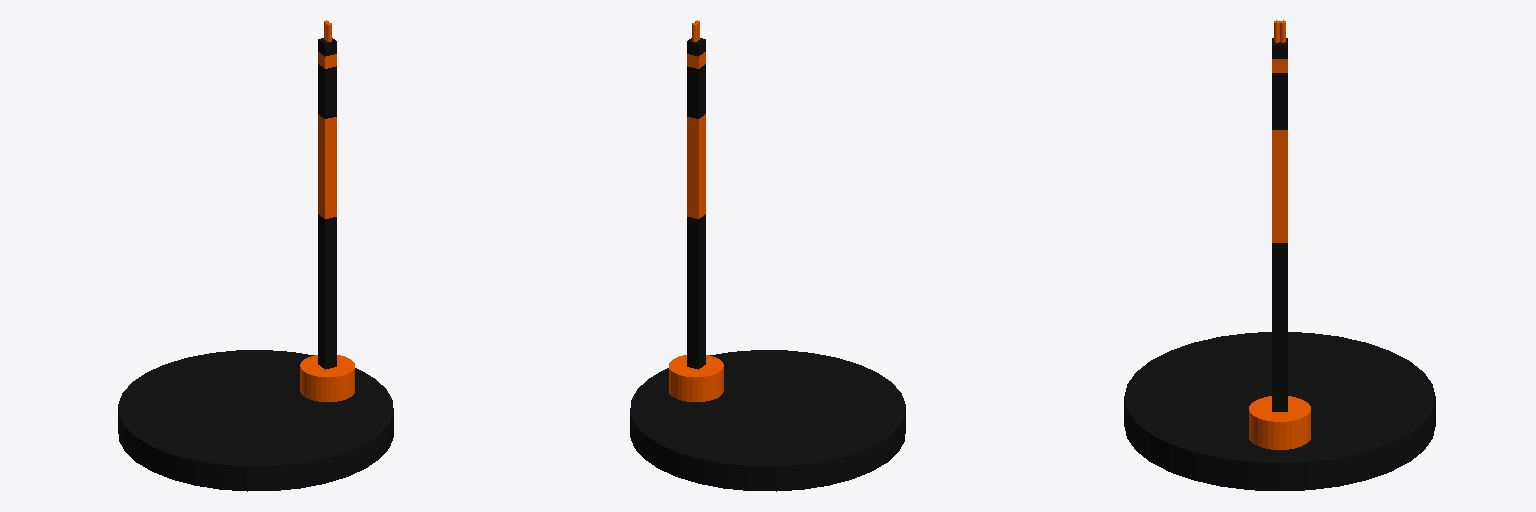
URDF robot description (testarm):
<?xml version="1.0" encoding="utf-8"?>
<!-- =================================================================================== -->
<!-- |    This document was autogenerated by xacro from testarm.xacro                  | -->
<!-- |    EDITING THIS FILE BY HAND IS NOT RECOMMENDED                                 | -->
<!-- =================================================================================== -->
<robot name="testarm" xmlns:xacro="http://www.ros.org/wiki/xacro">
  <material name="black">
    <color rgba="0.1 0.1 0.1 1.0"/>
  </material>
  <material name="orange">
    <color rgba="1.0 0.4 0.0 1.0"/>
  </material>
  <link name="base_link">
    <collision>
      <origin rpy="0 0 0" xyz="0.0 0.0 0.0"/>
      <geometry>
        <cylinder length="0.1" radius="0.5"/>
      </geometry>
    </collision>
    <visual>
      <origin rpy="0 0 0" xyz="0.0 0.0 0.0"/>
      <geometry>
        <cylinder length="0.1" radius="0.5"/>
      </geometry>
      <material name="black"/>
    </visual>
    <inertial>
      <origin rpy="0 0 0" xyz="0 0 0"/>
      <mass value="100"/>
      <inertia ixx="6.33333333333" ixy="0" ixz="0" iyy="6.33333333333" iyz="0" izz="25.0"/>
    </inertial>
  </link>
  <joint name="joint_base" type="revolute">
    <parent link="base_link"/>
    <child link="link0"/>
    <origin rpy="0 0 0" xyz="0.3 0 0.05"/>
    <axis xyz="0 0 1"/>
    <limit effort="300" lower="-2.78539816339" upper="2.78539816339" velocity="1.571"/>
  </joint>
  <link name="link0">
    <collision>
      <origin rpy="0 0 0" xyz="0 0 0.05"/>
      <geometry>
        <cylinder length="0.1" radius="0.1"/>
      </geometry>
    </collision>
    <visual>
      <origin rpy="0 0 0" xyz="0 0 0.05"/>
      <geometry>
        <cylinder length="0.1" radius="0.1"/>
      </geometry>
      <material name="orange"/>
    </visual>
    <inertial>
      <origin rpy="0 0 0" xyz="0 0 0.05"/>
      <mass value="1"/>
      <inertia ixx="0.00333333333333" ixy="0" ixz="0" iyy="0.00333333333333" iyz="0" izz="0.05"/>
    </inertial>
  </link>
  <joint name="joint0" type="revolute">
    <parent link="link0"/>
    <child link="link1"/>
    <origin rpy="0 0 0" xyz="0 0 0.1"/>
    <axis xyz="0 1 0"/>
    <limit effort="300" lower="-2.78539816339" upper="2.78539816339" velocity="1.571"/>
  </joint>
  <link name="link1">
    <collision>
      <origin rpy="0 0 0" xyz="0 0 0.3"/>
      <geometry>
        <box size="0.05 0.05 0.6"/>
      </geometry>
    </collision>
    <visual>
      <origin rpy="0 0 0" xyz="0 0 0.3"/>
      <geometry>
        <box size="0.05 0.05 0.6"/>
      </geometry>
      <material name="black"/>
    </visual>
    <inertial>
      <origin rpy="0 0 0" xyz="0 0 0.3"/>
      <mass value="1"/>
      <inertia ixx="0.03020832125" ixy="0.0" ixz="0.0" iyy="0.03020832125" iyz="0.0" izz="0.0004166665"/>
    </inertial>
  </link>
  <joint name="joint1" type="revolute">
    <parent link="link1"/>
    <child link="link2"/>
    <origin rpy="0 0 0" xyz="0 0 0.6"/>
    <axis xyz="0 1 0"/>
    <limit effort="300" lower="-2.78539816339" upper="2.78539816339" velocity="1.571"/>
  </joint>
  <link name="link2">
    <collision>
      <origin rpy="0 0 0" xyz="0 0 0.2"/>
      <geometry>
        <box size="0.05 0.05 0.4"/>
      </geometry>
    </collision>
    <visual>
      <origin rpy="0 0 0" xyz="0 0 0.2"/>
      <geometry>
        <box size="0.05 0.05 0.4"/>
      </geometry>
      <material name="orange"/>
    </visual>
    <inertial>
      <origin rpy="0 0 0" xyz="0 0 0.2"/>
      <mass value="1"/>
      <inertia ixx="0.01354166125" ixy="0.0" ixz="0.0" iyy="0.01354166125" iyz="0.0" izz="0.0004166665"/>
    </inertial>
  </link>
  <joint name="joint2" type="revolute">
    <parent link="link2"/>
    <child link="link3"/>
    <origin rpy="0 0 0" xyz="0 0 0.4"/>
    <axis xyz="0 0 1"/>
    <limit effort="300" lower="-2.78539816339" upper="2.78539816339" velocity="1.571"/>
  </joint>
  <link name="link3">
    <collision>
      <origin rpy="0 0 0" xyz="0 0 0.1"/>
      <geometry>
        <box size="0.05 0.05 0.2"/>
      </geometry>
    </collision>
    <visual>
      <origin rpy="0 0 0" xyz="0 0 0.1"/>
      <geometry>
        <box size="0.05 0.05 0.2"/>
      </geometry>
      <material name="black"/>
    </visual>
    <inertial>
      <origin rpy="0 0 0" xyz="0 0 0.1"/>
      <mass value="1"/>
      <inertia ixx="0.00354166525" ixy="0.0" ixz="0.0" iyy="0.00354166525" iyz="0.0" izz="0.0004166665"/>
    </inertial>
  </link>
  <joint name="joint3" type="revolute">
    <parent link="link3"/>
    <child link="link4"/>
    <origin rpy="0 0 0" xyz="0 0 0.2"/>
    <axis xyz="0 1 0"/>
    <limit effort="300" lower="-2.78539816339" upper="2.78539816339" velocity="1.571"/>
  </joint>
  <link name="link4">
    <collision>
      <origin rpy="0 0 0" xyz="0 0 0.025"/>
      <geometry>
        <box size="0.05 0.05 0.05"/>
      </geometry>
    </collision>
    <visual>
      <origin rpy="0 0 0" xyz="0 0 0.025"/>
      <geometry>
        <box size="0.05 0.05 0.05"/>
      </geometry>
      <material name="orange"/>
    </visual>
    <inertial>
      <origin rpy="0 0 0" xyz="0 0 0.025"/>
      <mass value="1"/>
      <inertia ixx="0.0004166665" ixy="0.0" ixz="0.0" iyy="0.0004166665" iyz="0.0" izz="0.0004166665"/>
    </inertial>
  </link>
  <joint name="joint4" type="revolute">
    <parent link="link4"/>
    <child link="link5"/>
    <origin rpy="0 0 0" xyz="0 0 0.05"/>
    <axis xyz="0 0 1"/>
    <limit effort="300" lower="-2.78539816339" upper="2.78539816339" velocity="1.571"/>
  </joint>
  <link name="link5">
    <collision>
      <origin rpy="0 0 0" xyz="0 0 0.025"/>
      <geometry>
        <box size="0.05 0.05 0.05"/>
      </geometry>
    </collision>
    <visual>
      <origin rpy="0 0 0" xyz="0 0 0.025"/>
      <geometry>
        <box size="0.05 0.05 0.05"/>
      </geometry>
      <material name="black"/>
    </visual>
    <inertial>
      <origin rpy="0 0 0" xyz="0 0 0.025"/>
      <mass value="1"/>
      <inertia ixx="0.0004166665" ixy="0.0" ixz="0.0" iyy="0.0004166665" iyz="0.0" izz="0.0004166665"/>
    </inertial>
  </link>
  <joint name="joint5" type="revolute">
    <parent link="link5"/>
    <child link="gripper_left"/>
    <origin rpy="0 0 0" xyz="0 0.01 0.05"/>
    <axis xyz="1 0 0"/>
    <limit effort="300" lower="-2.78539816339" upper="2.78539816339" velocity="1.571"/>
  </joint>
  <joint name="joint6" type="revolute">
    <parent link="link5"/>
    <child link="gripper_right"/>
    <origin rpy="0 0 0" xyz="0 -0.01 0.05"/>
    <axis xyz="1 0 0"/>
    <limit effort="300" lower="-2.78539816339" upper="2.78539816339" velocity="1.571"/>
  </joint>
  <link name="gripper_left">
    <collision>
      <origin rpy="0 0 0" xyz="0 0 0.035"/>
      <geometry>
        <cylinder length="0.07" radius="0.01"/>
      </geometry>
    </collision>
    <visual>
      <origin rpy="0 0 0" xyz="0 0 0.035"/>
      <geometry>
        <cylinder length="0.07" radius="0.01"/>
      </geometry>
      <material name="orange"/>
    </visual>
    <inertial>
      <origin rpy="0 0 0" xyz="0 0 0.035"/>
      <mass value="1"/>
      <inertia ixx="0.000433333333333" ixy="0" ixz="0" iyy="0.000433333333333" iyz="0" izz="0.005"/>
    </inertial>
  </link>
  <link name="gripper_right">
    <collision>
      <origin rpy="0 0 0" xyz="0 0 0.035"/>
      <geometry>
        <cylinder length="0.07" radius="0.01"/>
      </geometry>
    </collision>
    <visual>
      <origin rpy="0 0 0" xyz="0 0 0.035"/>
      <geometry>
        <cylinder length="0.07" radius="0.01"/>
      </geometry>
      <material name="orange"/>
    </visual>
    <inertial>
      <origin rpy="0 0 0" xyz="0 0 0.035"/>
      <mass value="1"/>
      <inertia ixx="0.000433333333333" ixy="0" ixz="0" iyy="0.000433333333333" iyz="0" izz="0.005"/>
    </inertial>
  </link>
  <!-- Transmission is important to link the joint and the controller -->
  <transmission name="joint_base_trans">
    <type>transmission_interface/SimpleTransmission</type>
    <joint name="joint_base">
      <hardwareInterface>hardware_interface/EffortJointInterface</hardwareInterface>
    </joint>
    <actuator name="joint_base_motor">
      <mechanicalReduction>1</mechanicalReduction>
    </actuator>
  </transmission>
  <transmission name="joint0_trans">
    <type>transmission_interface/SimpleTransmission</type>
    <joint name="joint0">
      <hardwareInterface>hardware_interface/EffortJointInterface</hardwareInterface>
    </joint>
    <actuator name="joint0_motor">
      <mechanicalReduction>1</mechanicalReduction>
    </actuator>
  </transmission>
  <transmission name="joint1_trans">
    <type>transmission_interface/SimpleTransmission</type>
    <joint name="joint1">
      <hardwareInterface>hardware_interface/EffortJointInterface</hardwareInterface>
    </joint>
    <actuator name="joint1_motor">
      <mechanicalReduction>1</mechanicalReduction>
    </actuator>
  </transmission>
  <transmission name="joint2_trans">
    <type>transmission_interface/SimpleTransmission</type>
    <joint name="joint2">
      <hardwareInterface>hardware_interface/EffortJointInterface</hardwareInterface>
    </joint>
    <actuator name="joint2_motor">
      <mechanicalReduction>1</mechanicalReduction>
    </actuator>
  </transmission>
  <transmission name="joint3_trans">
    <type>transmission_interface/SimpleTransmission</type>
    <joint name="joint3">
      <hardwareInterface>hardware_interface/EffortJointInterface</hardwareInterface>
    </joint>
    <actuator name="joint3_motor">
      <mechanicalReduction>1</mechanicalReduction>
    </actuator>
  </transmission>
  <transmission name="joint4_trans">
    <type>transmission_interface/SimpleTransmission</type>
    <joint name="joint4">
      <hardwareInterface>hardware_interface/EffortJointInterface</hardwareInterface>
    </joint>
    <actuator name="joint4_motor">
      <mechanicalReduction>1</mechanicalReduction>
    </actuator>
  </transmission>
  <transmission name="joint5_trans">
    <type>transmission_interface/SimpleTransmission</type>
    <joint name="joint5">
      <hardwareInterface>hardware_interface/EffortJointInterface</hardwareInterface>
    </joint>
    <actuator name="joint5_motor">
      <mechanicalReduction>1</mechanicalReduction>
    </actuator>
  </transmission>
  <transmission name="joint6_trans">
    <type>transmission_interface/SimpleTransmission</type>
    <joint name="joint6">
      <hardwareInterface>hardware_interface/EffortJointInterface</hardwareInterface>
    </joint>
    <actuator name="joint6_motor">
      <mechanicalReduction>1</mechanicalReduction>
    </actuator>
  </transmission>
  <!--   base link can't have inertia   -->
  <link name="world"/>
  <joint name="world_joint" type="fixed">
    <parent link="world"/>
    <child link="base_link"/>
    <origin rpy="0.0 0.0 0.0" xyz="0.0 0.0 0.0"/>
  </joint>
  <gazebo>
    <plugin filename="libgazebo_ros_joint_state_publisher.so" name="joint_state_publisher">
      <jointName>
            joint_base, 
            joint0, 
            joint1, 
            joint2,
            joint3,
            joint4,
            joint5,
            joint6
         </jointName>
      <robotNameSpace>/</robotNameSpace>
      <updateRate>100</updateRate>
      <alwaysOn>true</alwaysOn>
    </plugin>
  </gazebo>
  <!-- <gazebo>
      <plugin name="gazebo_ros_control" filename="libgazebo_ros_control.so">
         <robotNamespace>/</robotNamespace>
         <robotSimType>gazebo_ros_control/DefaultRobotHWSim</robotSimType>
         <legacyModeNS>true</legacyModeNS>
      </plugin>
   </gazebo> -->
  <gazebo>
    <plugin filename="libgazebo_ros_control.so" name="gazebo_ros_control">
      <!--             <robotNamespace>/nimrod</robotNamespace> -->
    </plugin>
  </gazebo>
</robot>

--- What the picture shows (computed from the rendered views, not written in the file) ---
Views: 3 orthographic renders of the robot side by side, from view 1: azimuth 30°, elevation 25°; view 2: azimuth 150°, elevation 25°; view 3: azimuth 270°, elevation 25°.
Robot: testarm — 10 links, 9 joints (8 revolute, 1 fixed); root link world; default pose: all joints at 0.
Links seen in each view (by area): view 1: base_link, link1, link0, link2, link3; view 2: base_link, link1, link0, link2, link3; view 3: base_link, link0, link1, link2, link3.
Link boxes in pixels (x1,y1,x2,y2): base_link: (118,350,393,491); link1: (318,214,336,369); link0: (300,355,354,401); link2: (318,114,336,218); link3: (318,64,336,118); base_link: (630,350,905,491); link1: (687,214,705,369); link0: (669,355,723,401); link2: (687,114,705,218); link3: (687,64,705,118); base_link: (1124,332,1435,490); link0: (1249,396,1310,449); link1: (1272,243,1287,411); link2: (1272,130,1287,242); link3: (1272,73,1287,129).
Bounding box of the posed robot: 1 × 1 × 1.57 m (x, y, z).
Geometry: primitives only (box / cylinder / sphere), no mesh files.